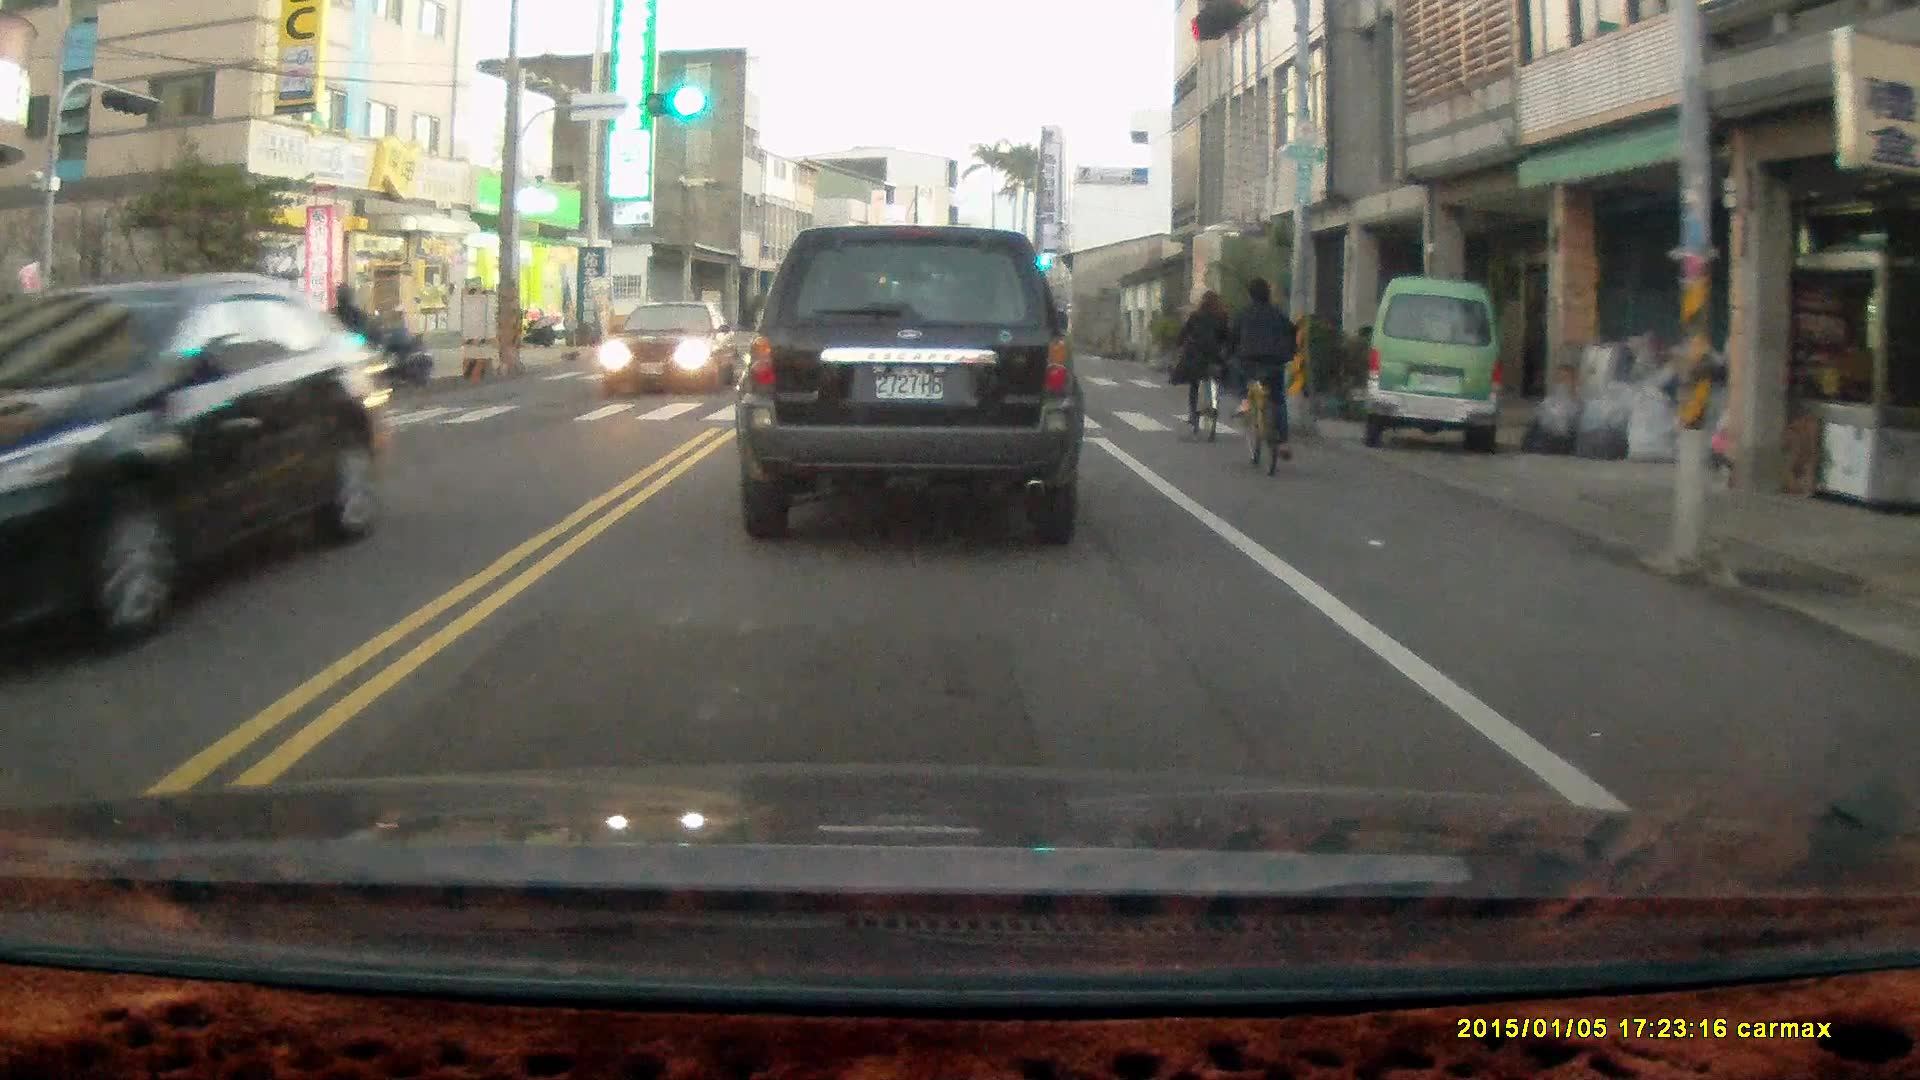rider: (1218, 274, 1298, 478), (1171, 289, 1230, 447), (352, 308, 430, 392)
vehicle: (1, 274, 403, 662), (750, 223, 1088, 535), (1360, 276, 1505, 458), (597, 302, 743, 403)
